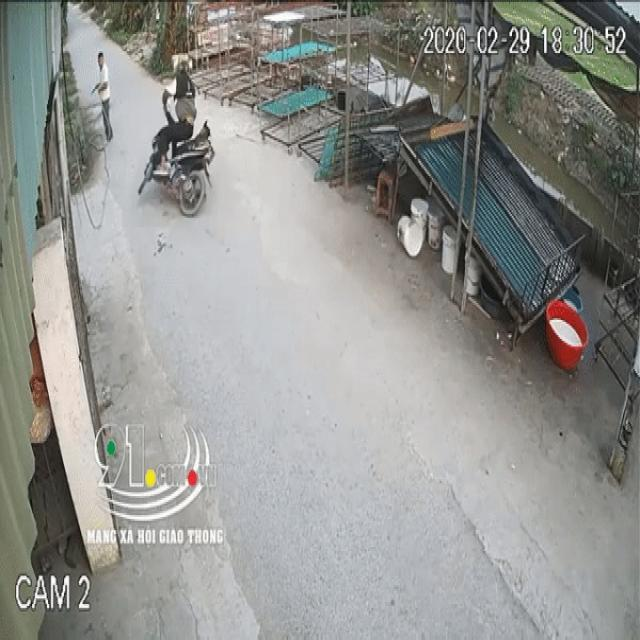multiple_accident: (137, 53, 216, 225)
